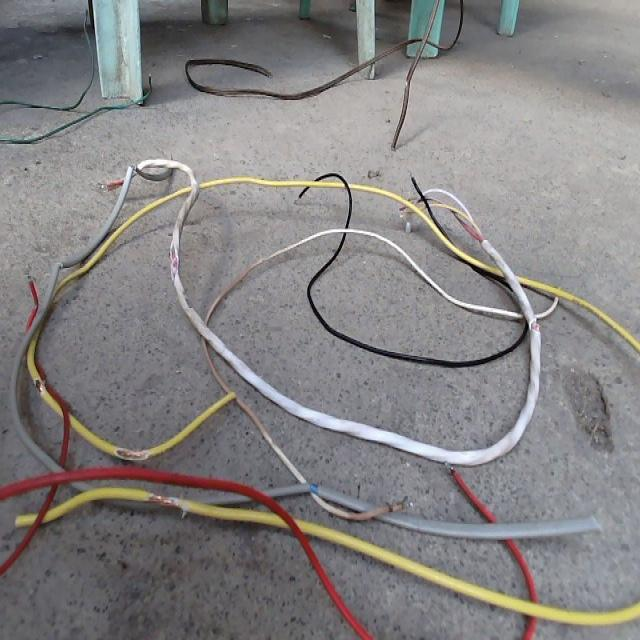-: (147, 492, 184, 511), (114, 446, 150, 462), (168, 238, 178, 282), (31, 375, 45, 397), (306, 480, 320, 495), (528, 315, 540, 332)
